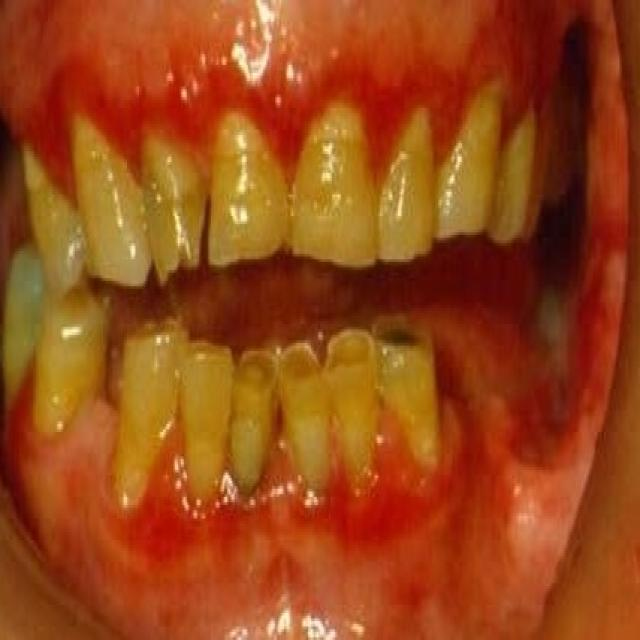caries: (149, 223, 201, 294), (377, 310, 435, 372), (323, 323, 373, 388), (231, 340, 277, 403), (278, 338, 319, 392)
